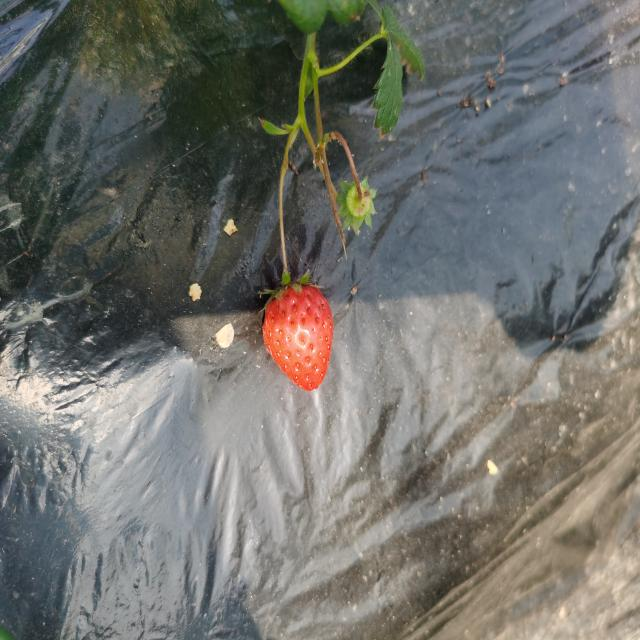stem: (280, 230, 288, 287)
strawberry: (263, 280, 334, 391)
